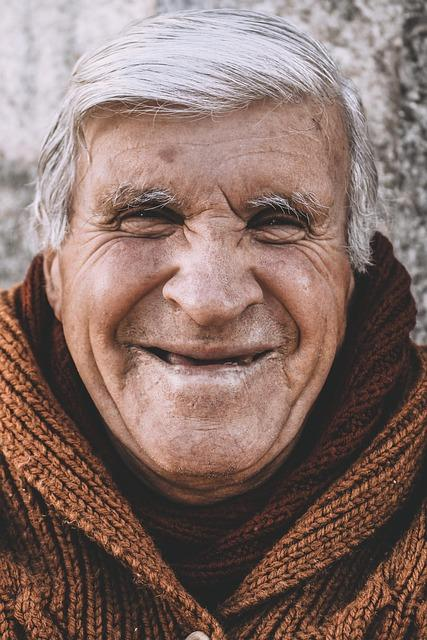Non_Gorille: (10, 9, 427, 640)
